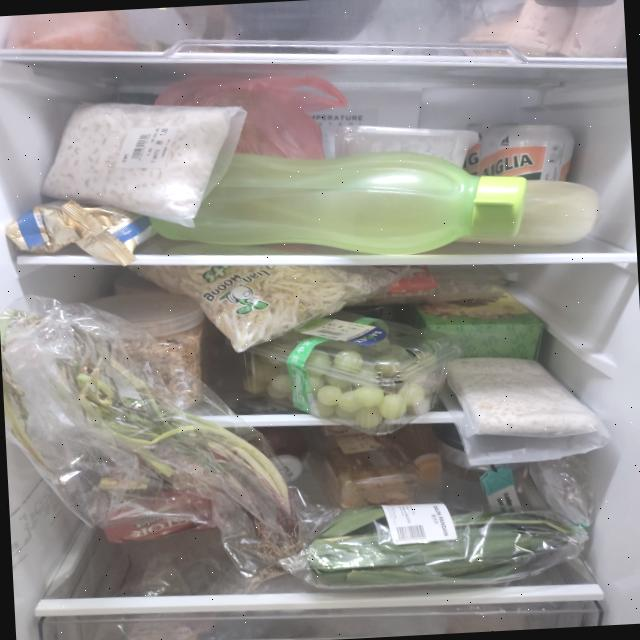bean_sprouts: (129, 252, 377, 358)
corn: (456, 176, 603, 251)
grape: (239, 324, 442, 436)
leafy_greens: (303, 494, 576, 592)
spring_onion: (0, 293, 303, 597)
tempeh: (36, 94, 238, 226), (446, 351, 600, 439)
unknown_bag: (152, 68, 352, 169)
